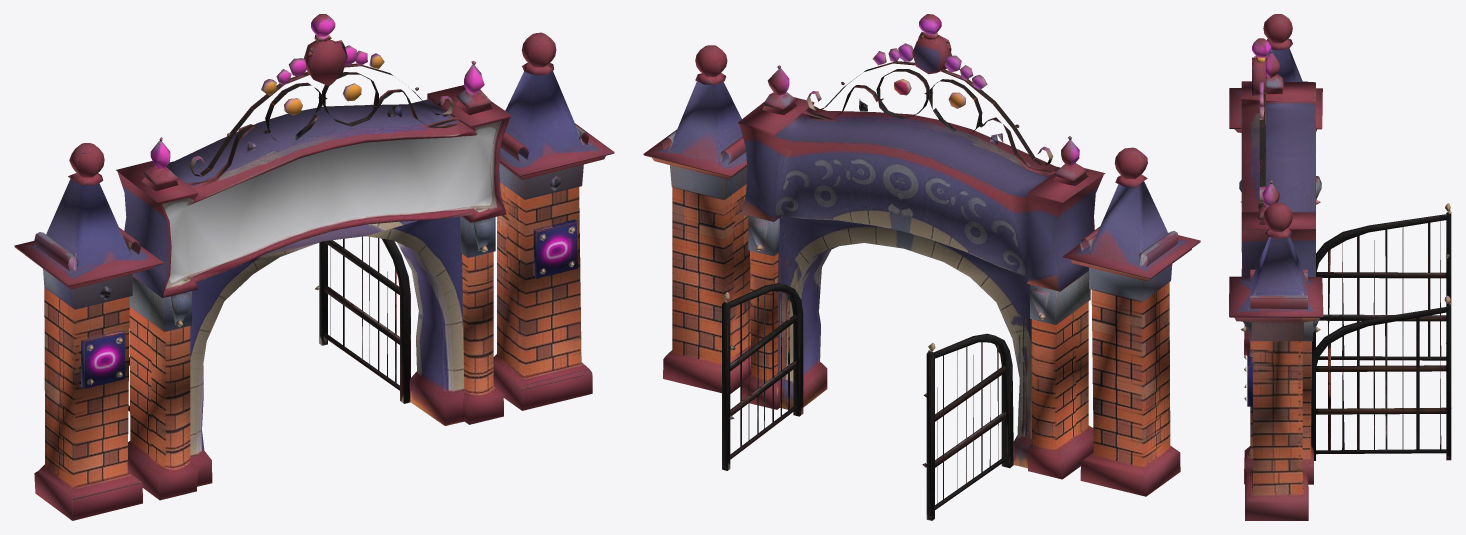
Rendered from arch.glb.
The picture shows the model from 3 angles, left to right: view 1: azimuth 30°, elevation 25°; view 2: azimuth 150°, elevation 25°; view 3: azimuth 270°, elevation 25°; orthographic projection. The views are drawn at different scales.
Bounding box in the file's own units: 14 × 10.69 × 5.78.
1 material, 1 textured.
